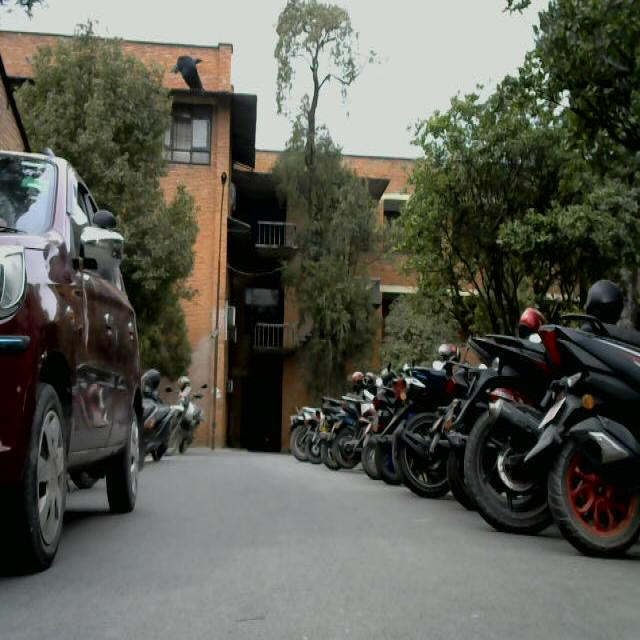Bike: (527, 308, 640, 570), (463, 322, 552, 544), (394, 365, 456, 482), (326, 364, 391, 466), (168, 371, 221, 466), (137, 366, 184, 466)
Car: (1, 134, 146, 570)
Pole: (202, 164, 240, 448)
Road: (96, 450, 608, 640)
trees: (410, 12, 640, 278), (27, 9, 173, 338), (272, 3, 384, 375)
